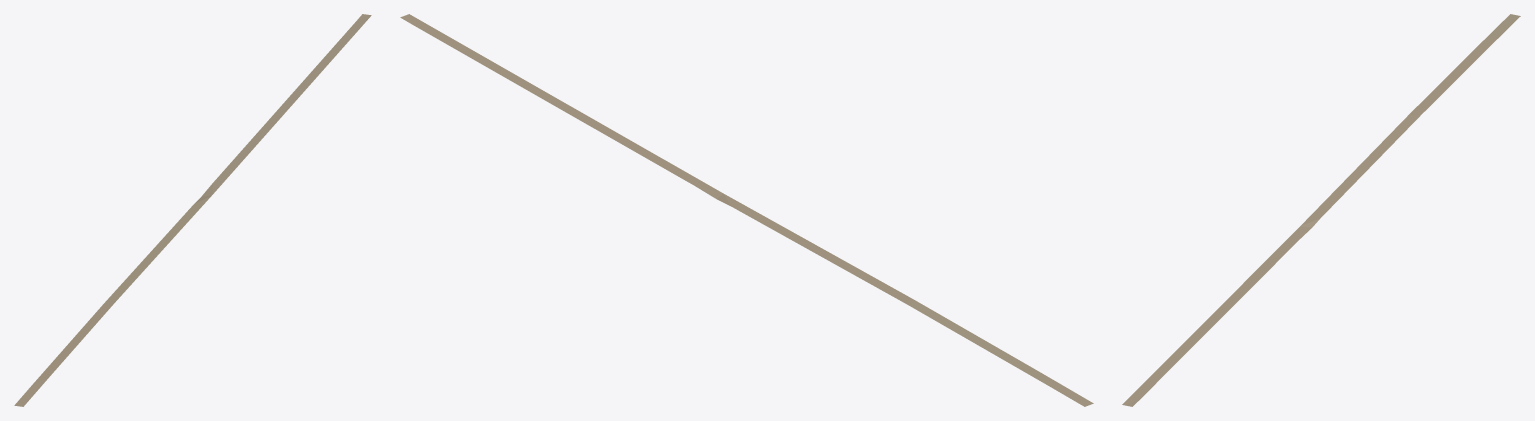
The model's file is farm_-34_-25_track.glb.
3 renders of one model, left to right at view 1: azimuth 90°, elevation 25°; view 2: azimuth 150°, elevation 25°; view 3: azimuth 270°, elevation 25°, orthographic. The views are drawn at different scales.
Visible parts, largest first — view 1: geometry_0; view 2: geometry_0; view 3: geometry_0.
Part boxes in pixels (box(x1,y1,x2,y2)): geometry_0: box(14, 14, 371, 406); geometry_0: box(400, 14, 1093, 406); geometry_0: box(1122, 14, 1520, 406).
Bounding box in the file's own units: 287 × 7.47 × 116.
